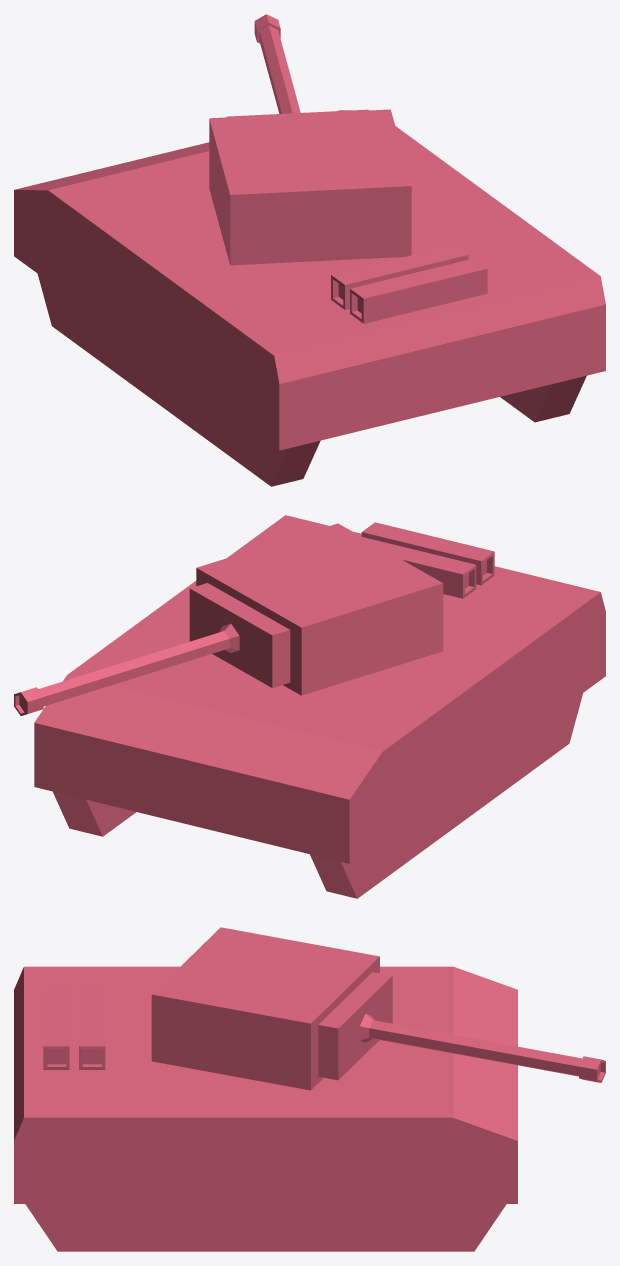
File: Tank_low_poly.glb
The picture shows the model from 3 angles, top to bottom: view 1: azimuth 30°, elevation 25°; view 2: azimuth 150°, elevation 25°; view 3: azimuth 270°, elevation 25°; orthographic projection. The views are drawn at different scales.
Visible parts, largest first — view 1: Cube_VerdeForte_0, Cube_VerdeClaro_0, Cube.001_VerdeForte_0, Cube_Material_0, Cube.002_Vermelho_0; view 2: Cube_VerdeForte_0, Cube_VerdeClaro_0, Cube.001_VerdeForte_0, Cube_Material_0, Cube.001_VerdeClaro_0, Cube.002_Vermelho_0, Cube_Luz_0; view 3: Cube_VerdeClaro_0, Cube_VerdeForte_0, Cube.001_VerdeForte_0, Cube_Material_0, Cube.001_VerdeClaro_0, Cube.002_Vermelho_0, Cube.002_Preto_0.
Part boxes in pixels (box(x1,y1,x2,y2)): Cube_VerdeForte_0: box(14, 142, 605, 450); Cube_VerdeClaro_0: box(14, 110, 605, 407); Cube.001_VerdeForte_0: box(209, 14, 411, 265); Cube_Material_0: box(37, 274, 586, 486); Cube.002_Vermelho_0: box(331, 244, 487, 323); Cube_VerdeForte_0: box(34, 531, 605, 863); Cube_VerdeClaro_0: box(34, 515, 605, 822); Cube.001_VerdeForte_0: box(14, 523, 443, 715); Cube_Material_0: box(53, 693, 582, 898); Cube.001_VerdeClaro_0: box(189, 583, 290, 687); Cube.002_Vermelho_0: box(361, 522, 494, 598); Cube_Luz_0: box(39, 724, 342, 812); Cube_VerdeClaro_0: box(14, 966, 517, 1163); Cube_VerdeForte_0: box(14, 995, 517, 1203); Cube.001_VerdeForte_0: box(151, 927, 605, 1090); Cube_Material_0: box(25, 1204, 506, 1251); Cube.001_VerdeClaro_0: box(318, 972, 392, 1080); Cube.002_Vermelho_0: box(43, 989, 105, 1069); Cube.002_Preto_0: box(47, 1049, 101, 1066).
Size of the model in its own units: 213 by 136 by 352.
